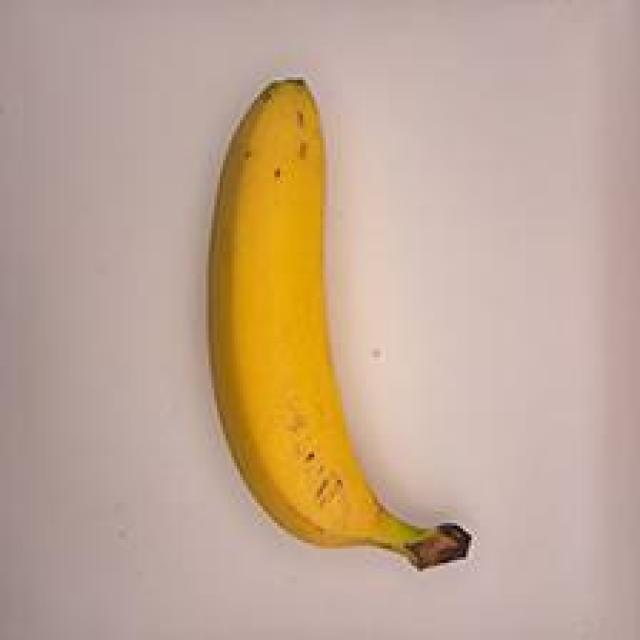Ripe: (155, 38, 497, 598)
